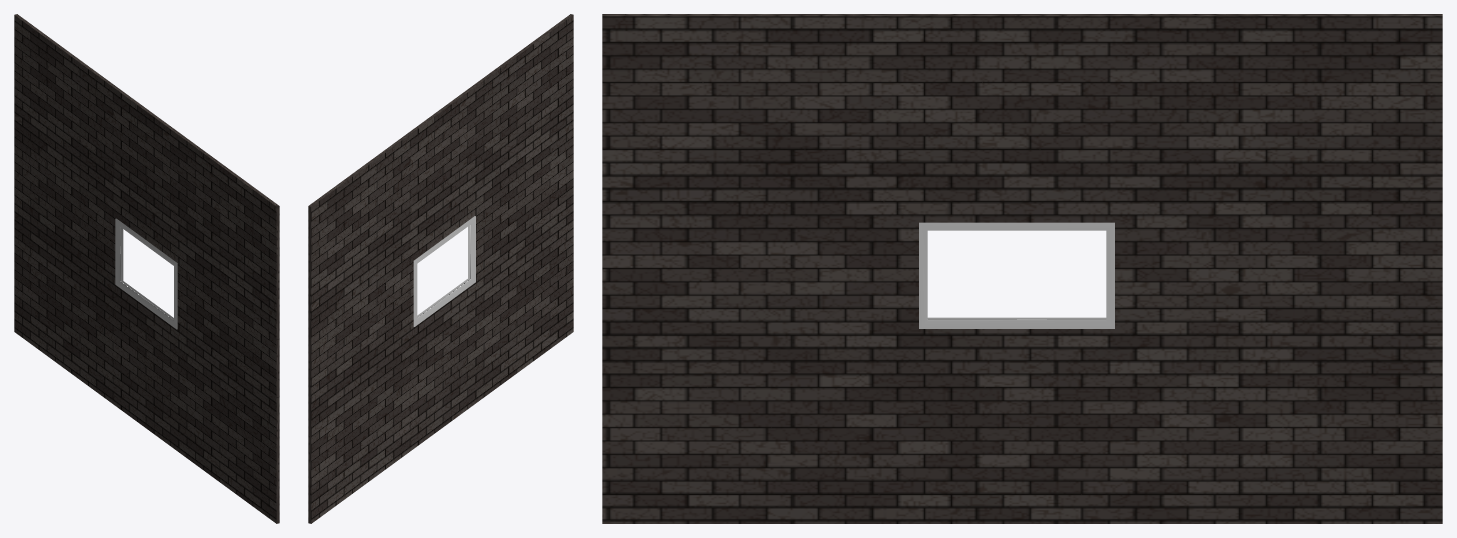
File: WallWindow.fbx
3 renders of one model, left to right at view 1: azimuth 30°, elevation 25°; view 2: azimuth 150°, elevation 25°; view 3: azimuth 270°, elevation 25°, orthographic. The views are drawn at different scales.
Parts seen in each view (by area): view 1: WallWindow; view 2: WallWindow; view 3: WallWindow.
Boxes of the visible parts, x1,y1,x2,y2 form: WallWindow: [14, 14, 279, 523]; WallWindow: [308, 14, 573, 523]; WallWindow: [602, 14, 1442, 523].
Size of the model in its own units: 34.75 by 2000 by 3000.
